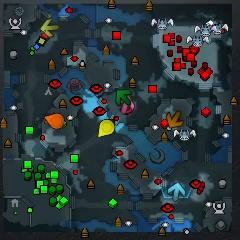p4: (97, 119, 115, 137)
p5: (43, 113, 65, 129)
x1: (120, 96, 134, 114)
x2: (40, 18, 59, 38)
x3: (167, 182, 185, 201)
x4: (116, 89, 131, 106)
x5: (166, 111, 184, 128)
